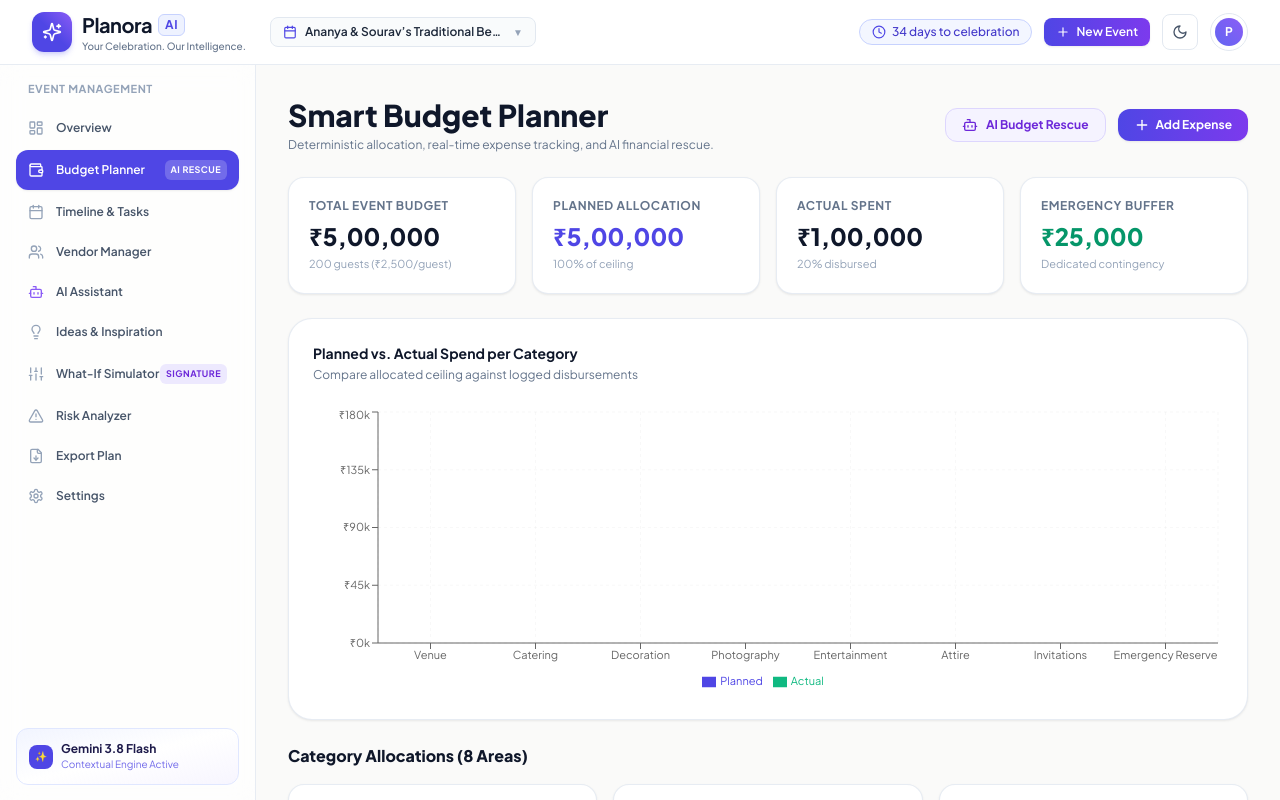
Test: Complete 10-Step Automated User Journeys › Journey 5 & 6: Reviews budget allocation and adds expense item
Expected: the heading "Smart Budget Planner" is shown, [288,96,608,134]
# Open expense modal
Click the button "Add Expense".
click(1183, 125)  # box [1118,109,1248,141]
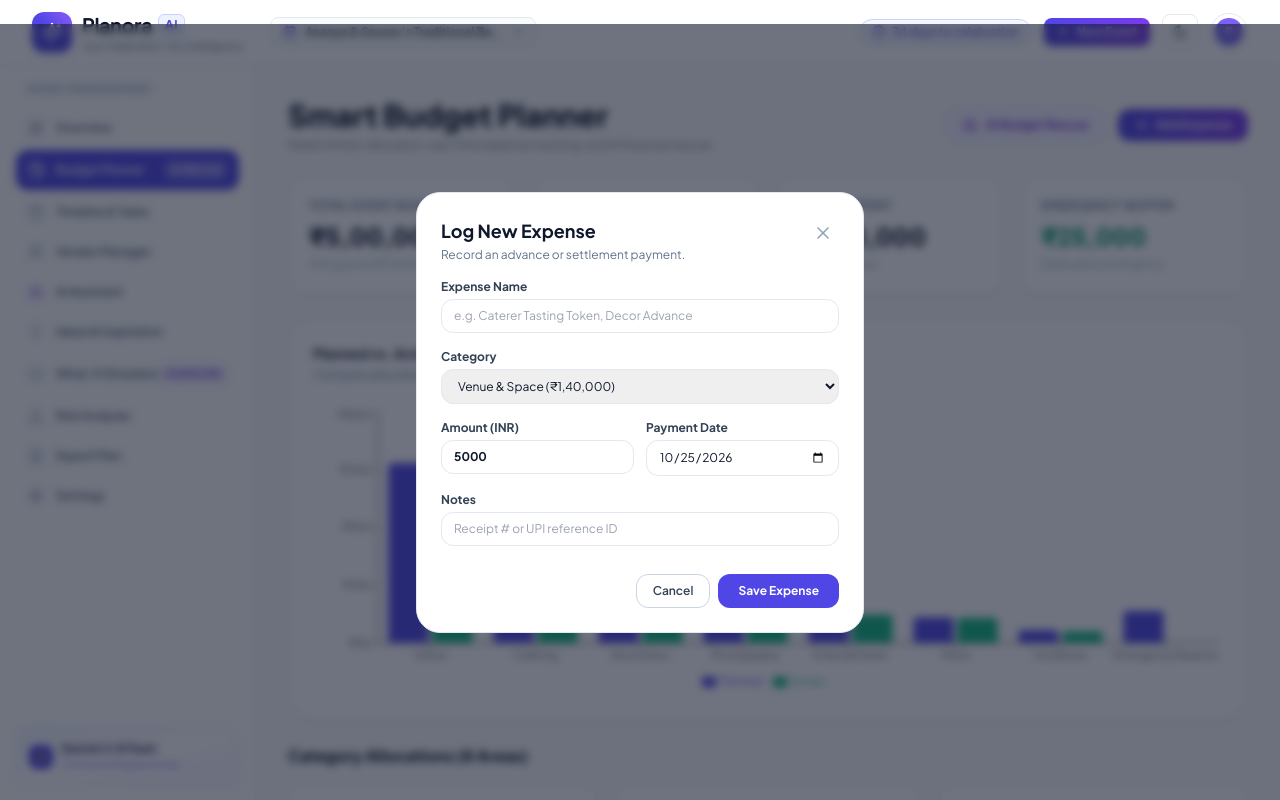
Now the heading "Log New Expense" is shown, box [441,218,596,242]
